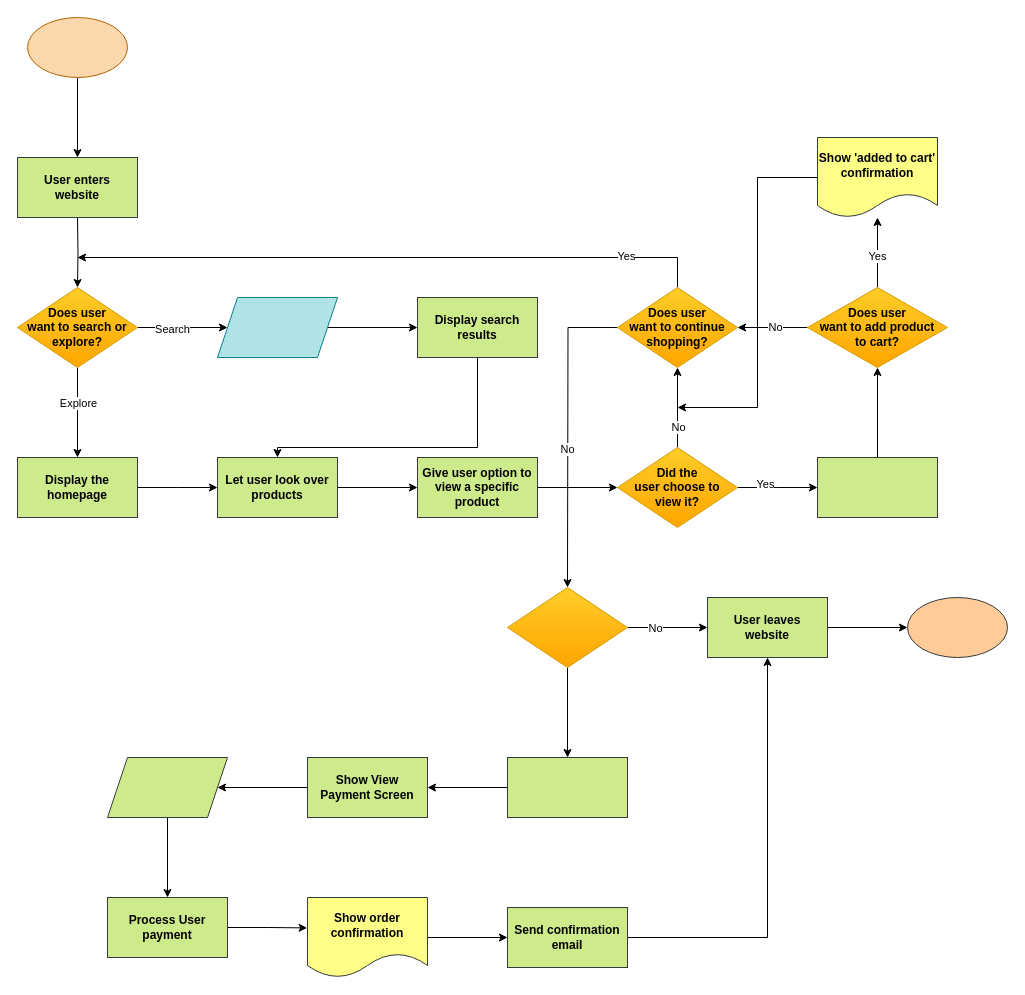
Some shapes in this 1025 by 995 pixel diagram are drawn without their labels. The shapes that lost their labels are listed below. From the top down, each one's centre as x and y in pixels, then its label:
At (x=77, y=47): "Start".
At (x=277, y=327): "Get search keywords from user".
At (x=877, y=487): "Open product webpage".
At (x=567, y=627): "Does user want to checkout?".
At (x=957, y=627): "End".
At (x=167, y=787): "Get Payment Info from User".
At (x=567, y=787): "Show View Cart Screen".
